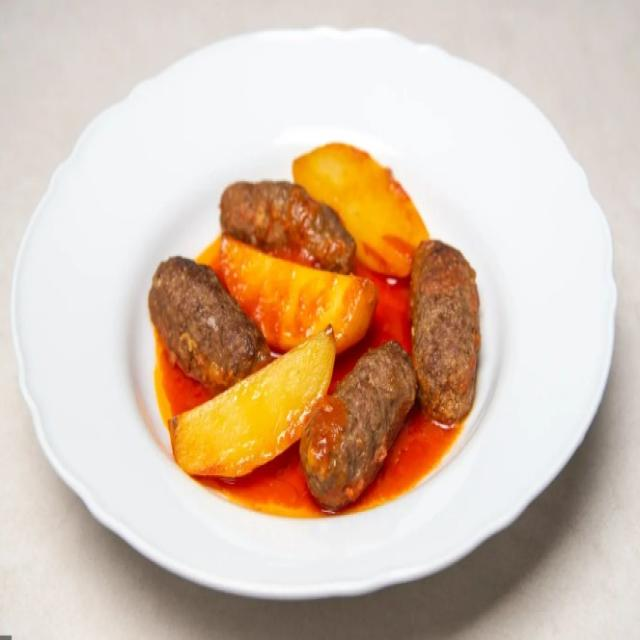ana_yemek: (146, 138, 482, 515)
